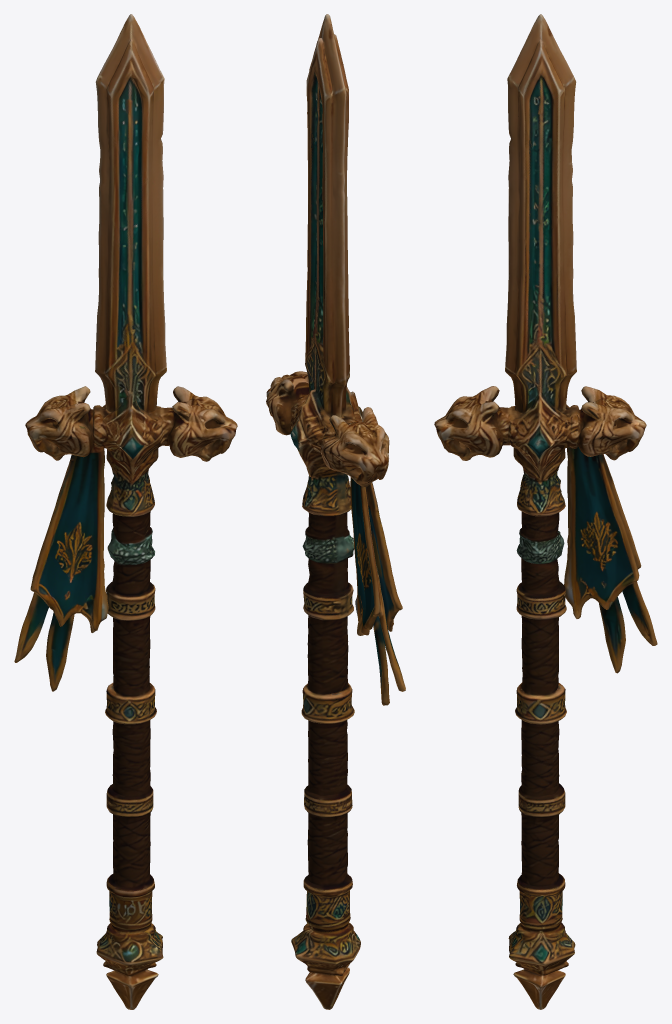
File: look-weapon2-t5-tripo.glb
3 renders of one model, left to right at view 1: azimuth 90°, elevation 25°; view 2: azimuth 210°, elevation 25°; view 3: azimuth 270°, elevation 25°, orthographic.
Parts seen in each view (by area): view 1: tripo_node_a314752e-f48a-4b54-957d-5a4d0a9a7ce0; view 2: tripo_node_a314752e-f48a-4b54-957d-5a4d0a9a7ce0; view 3: tripo_node_a314752e-f48a-4b54-957d-5a4d0a9a7ce0.
Part boxes in pixels (x1,y1,x2,y2): tripo_node_a314752e-f48a-4b54-957d-5a4d0a9a7ce0: [14, 14, 237, 1009]; tripo_node_a314752e-f48a-4b54-957d-5a4d0a9a7ce0: [266, 14, 405, 1009]; tripo_node_a314752e-f48a-4b54-957d-5a4d0a9a7ce0: [434, 14, 657, 1009].
Bounding box in the file's own units: 0.0742 × 1 × 0.2033.
Materials: 1 (1 with a texture image).
